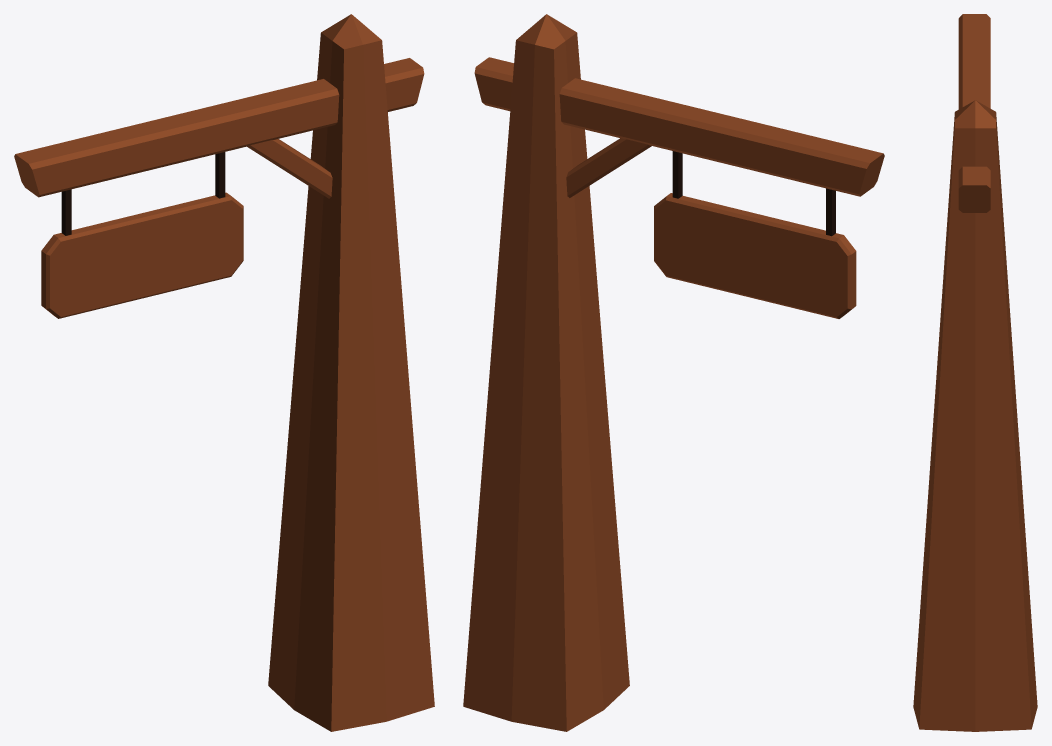
The model's file is HangSign_FBX.fbx.
3 renders of one model, left to right at view 1: azimuth 30°, elevation 25°; view 2: azimuth 150°, elevation 25°; view 3: azimuth 270°, elevation 25°, orthographic. The views are drawn at different scales.
Visible parts, largest first — view 1: Sign_Post004, Sign_Post005, Box035, Sign_Post006; view 2: Sign_Post004, Sign_Post005, Box035, Sign_Post006; view 3: Sign_Post004, Sign_Post005.
Boxes of the visible parts, x1=… form: Sign_Post004: x1=268, y1=14, x2=434, y2=731; Sign_Post005: x1=14, y1=58, x2=424, y2=197; Box035: x1=41, y1=192, x2=243, y2=318; Sign_Post006: x1=247, y1=139, x2=332, y2=198; Sign_Post004: x1=463, y1=14, x2=629, y2=731; Sign_Post005: x1=474, y1=57, x2=884, y2=196; Box035: x1=654, y1=193, x2=856, y2=318; Sign_Post006: x1=566, y1=138, x2=651, y2=197; Sign_Post004: x1=913, y1=100, x2=1037, y2=731; Sign_Post005: x1=958, y1=14, x2=990, y2=212.
Bounding box in the file's own units: 286 × 472 × 87.58.
